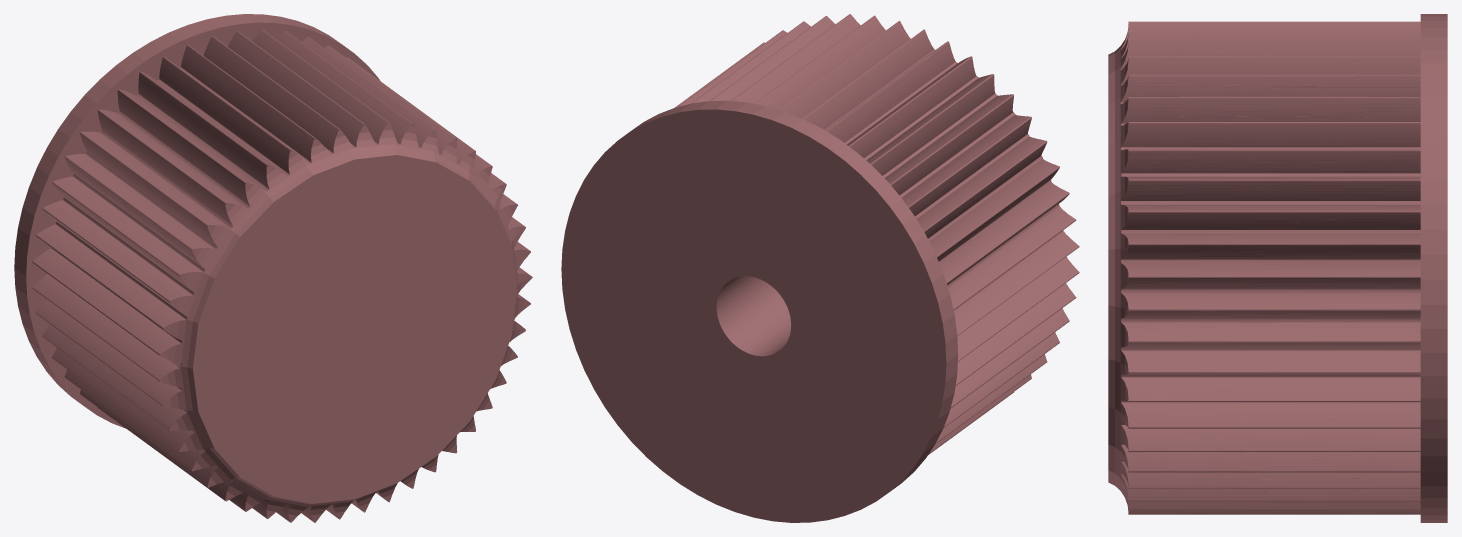
File: bigknob_rose.glb
3 views of the same model, side by side, from view 1: azimuth 30°, elevation 25°; view 2: azimuth 150°, elevation 25°; view 3: azimuth 270°, elevation 25° (orthographic). The views are drawn at different scales.
Bounding box in the file's own units: 0.024 × 0.024 × 0.016.
